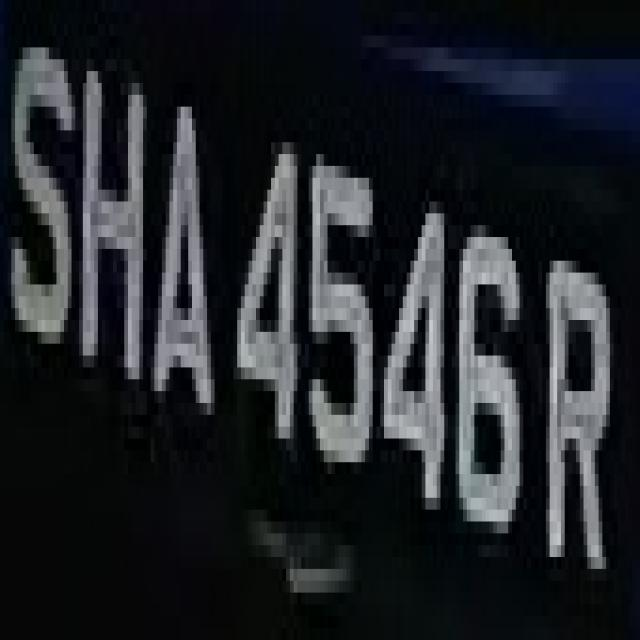4: (233, 95, 305, 462), (384, 178, 452, 533)
5: (305, 95, 373, 498)
6: (448, 190, 527, 569)
A: (150, 48, 218, 462)
H: (75, 24, 158, 391)
R: (542, 178, 614, 604)
S: (11, 23, 76, 356)
